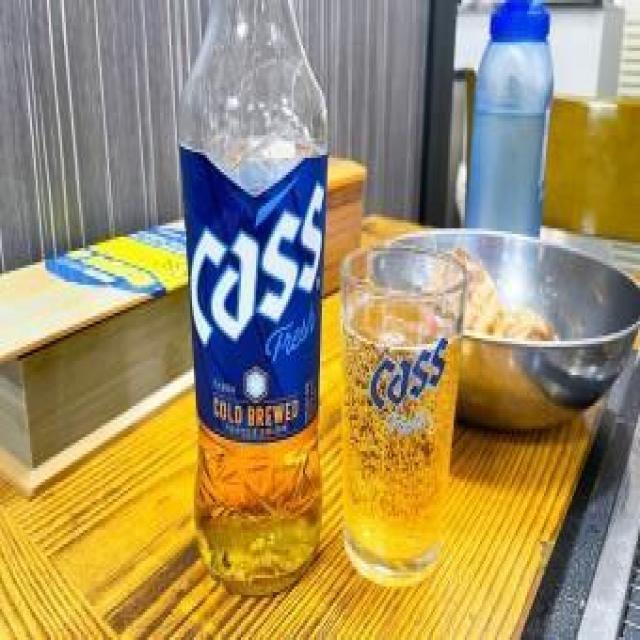beer-bottle: (176, 0, 327, 601)
